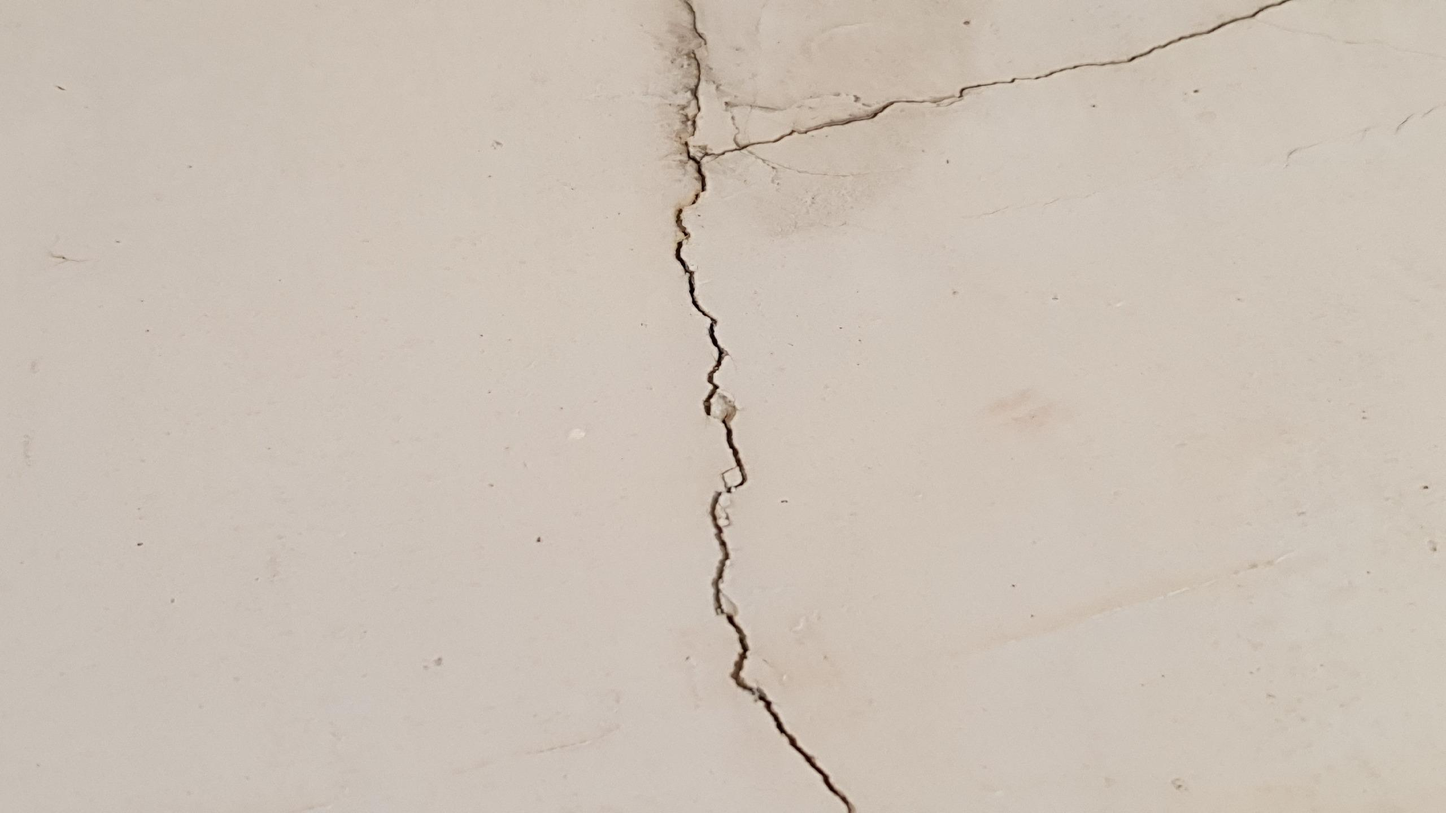crack: (675, 0, 1290, 812)
